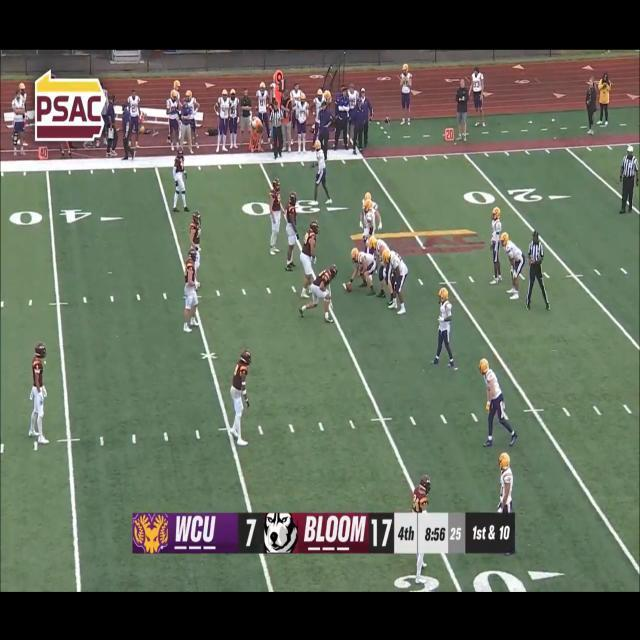football: (342, 280, 356, 296)
